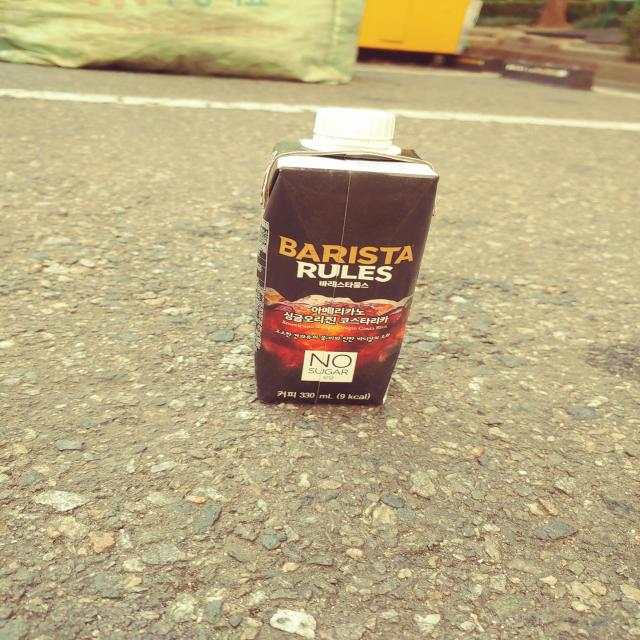paperpack: (254, 107, 439, 406)
